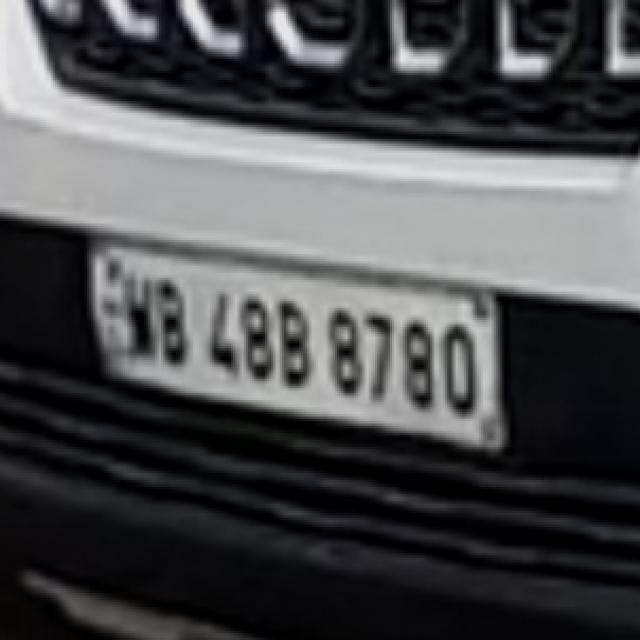0: (436, 307, 479, 420)
4: (208, 281, 240, 378)
7: (357, 295, 398, 409)
8: (327, 295, 364, 401), (402, 313, 438, 417), (242, 284, 274, 388)
B: (270, 298, 316, 394), (153, 276, 190, 378)
W: (118, 265, 156, 369)
